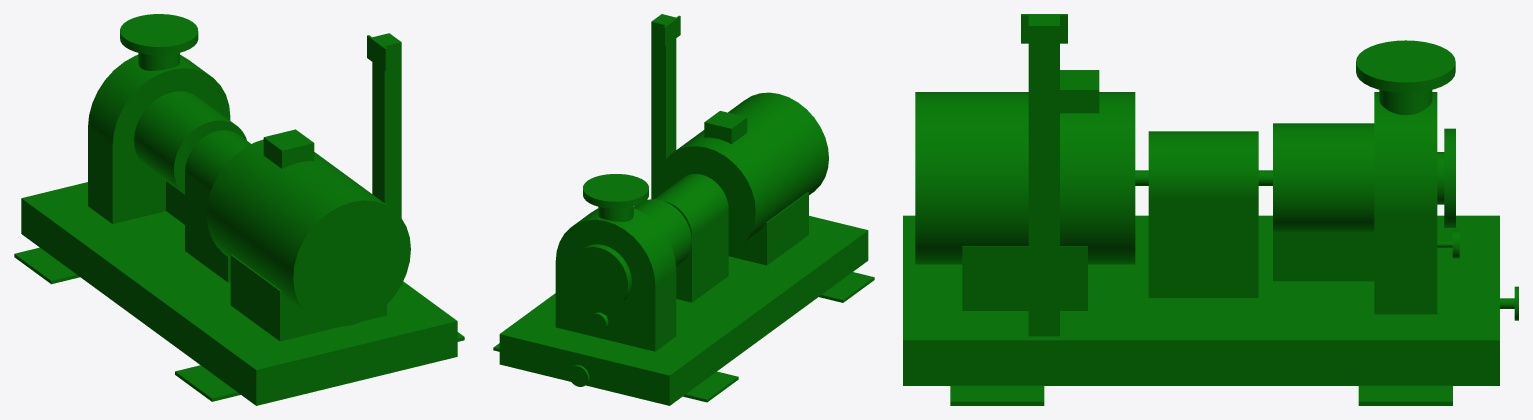
Rendered from Image-1711348063881-2281427703200_50-PA51B.fbx.
3 renders of one model, left to right at view 1: azimuth 30°, elevation 25°; view 2: azimuth 150°, elevation 25°; view 3: azimuth 270°, elevation 25°, orthographic. The views are drawn at different scales.
Visible parts, largest first — view 1: BOX 1 of SUBEQUIPMENT /50-PA51B/PRIM, CYLINDER 4 of SUBEQUIPMENT /50-PA51B/PRIM, CYLINDER 1 of SUBEQUIPMENT /50-PA51B/PRIM, CYLINDER 2 of SUBEQUIPMENT /50-PA51B/PRIM, BOX 6 of SUBEQUIPMENT /50-PA51B/PRIM, BOX 9 of SUBEQUIPMENT /50-PA51B/PRIM, BOX 8 of SUBEQUIPMENT /50-PA51B/PRIM, /50-PA51B/N2, BOX 7 of SUBEQUIPMENT /50-PA51B/PRIM, CYLINDER 3 of SUBEQUIPMENT /50-PA51B/PRIM, BOX 12 of SUBEQUIPMENT /50-PA51B/PRIM, BOX 2 of SUBEQUIPMENT /50-PA51B/PRIM (+3 smaller); view 2: BOX 1 of SUBEQUIPMENT /50-PA51B/PRIM, CYLINDER 4 of SUBEQUIPMENT /50-PA51B/PRIM, BOX 6 of SUBEQUIPMENT /50-PA51B/PRIM, CYLINDER 1 of SUBEQUIPMENT /50-PA51B/PRIM, BOX 9 of SUBEQUIPMENT /50-PA51B/PRIM, BOX 7 of SUBEQUIPMENT /50-PA51B/PRIM, /50-PA51B/N1, BOX 8 of SUBEQUIPMENT /50-PA51B/PRIM, CYLINDER 3 of SUBEQUIPMENT /50-PA51B/PRIM, /50-PA51B/N2, CYLINDER 2 of SUBEQUIPMENT /50-PA51B/PRIM, BOX 12 of SUBEQUIPMENT /50-PA51B/PRIM (+4 smaller); view 3: BOX 1 of SUBEQUIPMENT /50-PA51B/PRIM, CYLINDER 4 of SUBEQUIPMENT /50-PA51B/PRIM, CYLINDER 2 of SUBEQUIPMENT /50-PA51B/PRIM, BOX 7 of SUBEQUIPMENT /50-PA51B/PRIM, BOX 9 of SUBEQUIPMENT /50-PA51B/PRIM, CYLINDER 3 of SUBEQUIPMENT /50-PA51B/PRIM, CYLINDER 1 of SUBEQUIPMENT /50-PA51B/PRIM, BOX 6 of SUBEQUIPMENT /50-PA51B/PRIM, BOX 8 of SUBEQUIPMENT /50-PA51B/PRIM, /50-PA51B/N2, BOX 11 of SUBEQUIPMENT /50-PA51B/PRIM, BOX 4 of SUBEQUIPMENT /50-PA51B/PRIM (+4 smaller).
Part boxes in pixels (x1,y1,x2,y2): BOX 1 of SUBEQUIPMENT /50-PA51B/PRIM: (21, 182, 457, 405); CYLINDER 4 of SUBEQUIPMENT /50-PA51B/PRIM: (206, 139, 410, 326); CYLINDER 1 of SUBEQUIPMENT /50-PA51B/PRIM: (88, 54, 230, 193); CYLINDER 2 of SUBEQUIPMENT /50-PA51B/PRIM: (134, 91, 246, 194); BOX 6 of SUBEQUIPMENT /50-PA51B/PRIM: (88, 117, 230, 223); BOX 9 of SUBEQUIPMENT /50-PA51B/PRIM: (372, 33, 401, 286); BOX 8 of SUBEQUIPMENT /50-PA51B/PRIM: (230, 254, 386, 341); /50-PA51B/N2: (120, 14, 198, 70); BOX 7 of SUBEQUIPMENT /50-PA51B/PRIM: (185, 173, 230, 282); CYLINDER 3 of SUBEQUIPMENT /50-PA51B/PRIM: (185, 130, 250, 191); BOX 12 of SUBEQUIPMENT /50-PA51B/PRIM: (263, 129, 314, 168); BOX 2 of SUBEQUIPMENT /50-PA51B/PRIM: (14, 247, 79, 284); BOX 1 of SUBEQUIPMENT /50-PA51B/PRIM: (499, 215, 868, 405); CYLINDER 4 of SUBEQUIPMENT /50-PA51B/PRIM: (656, 92, 828, 250); BOX 6 of SUBEQUIPMENT /50-PA51B/PRIM: (555, 261, 676, 351); CYLINDER 1 of SUBEQUIPMENT /50-PA51B/PRIM: (555, 208, 676, 326); BOX 9 of SUBEQUIPMENT /50-PA51B/PRIM: (651, 14, 676, 199); BOX 7 of SUBEQUIPMENT /50-PA51B/PRIM: (676, 210, 728, 302); /50-PA51B/N1: (570, 244, 631, 308); BOX 8 of SUBEQUIPMENT /50-PA51B/PRIM: (728, 192, 808, 265); CYLINDER 3 of SUBEQUIPMENT /50-PA51B/PRIM: (654, 173, 728, 236); /50-PA51B/N2: (583, 174, 648, 221); CYLINDER 2 of SUBEQUIPMENT /50-PA51B/PRIM: (633, 199, 691, 266); BOX 12 of SUBEQUIPMENT /50-PA51B/PRIM: (704, 111, 747, 144); BOX 1 of SUBEQUIPMENT /50-PA51B/PRIM: (903, 215, 1499, 385); CYLINDER 4 of SUBEQUIPMENT /50-PA51B/PRIM: (915, 92, 1135, 264); CYLINDER 2 of SUBEQUIPMENT /50-PA51B/PRIM: (1273, 123, 1374, 233); BOX 7 of SUBEQUIPMENT /50-PA51B/PRIM: (1148, 198, 1258, 297); BOX 9 of SUBEQUIPMENT /50-PA51B/PRIM: (1028, 15, 1059, 336); CYLINDER 3 of SUBEQUIPMENT /50-PA51B/PRIM: (1148, 131, 1258, 198); CYLINDER 1 of SUBEQUIPMENT /50-PA51B/PRIM: (1374, 92, 1437, 214); BOX 6 of SUBEQUIPMENT /50-PA51B/PRIM: (1374, 214, 1437, 314); BOX 8 of SUBEQUIPMENT /50-PA51B/PRIM: (962, 246, 1087, 310); /50-PA51B/N2: (1356, 40, 1455, 115); BOX 11 of SUBEQUIPMENT /50-PA51B/PRIM: (1273, 233, 1374, 281); BOX 4 of SUBEQUIPMENT /50-PA51B/PRIM: (1358, 385, 1452, 405).
Bounding box in the file's own units: 1.18 × 1.96 × 1.26.
